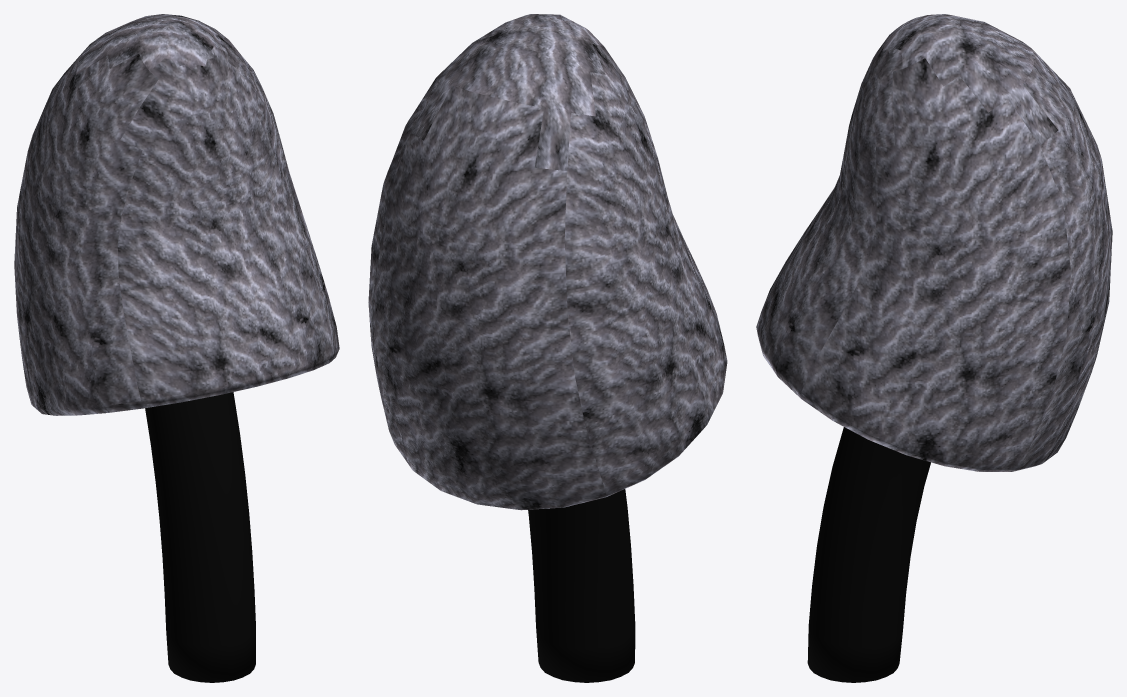
Rendered from Mushroom1.fbx.
3 renders of one model, left to right at view 1: azimuth 30°, elevation 25°; view 2: azimuth 150°, elevation 25°; view 3: azimuth 270°, elevation 25°, orthographic. The views are drawn at different scales.
Visible parts, largest first — view 1: Mushroom 1; view 2: Mushroom 1; view 3: Mushroom 1.
Part boxes in pixels (box(x1,y1,x2,y2)): Mushroom 1: box(14, 14, 339, 682); Mushroom 1: box(368, 14, 727, 682); Mushroom 1: box(756, 14, 1112, 682).
Bounding box in the file's own units: 68.39 × 146 × 73.29.
